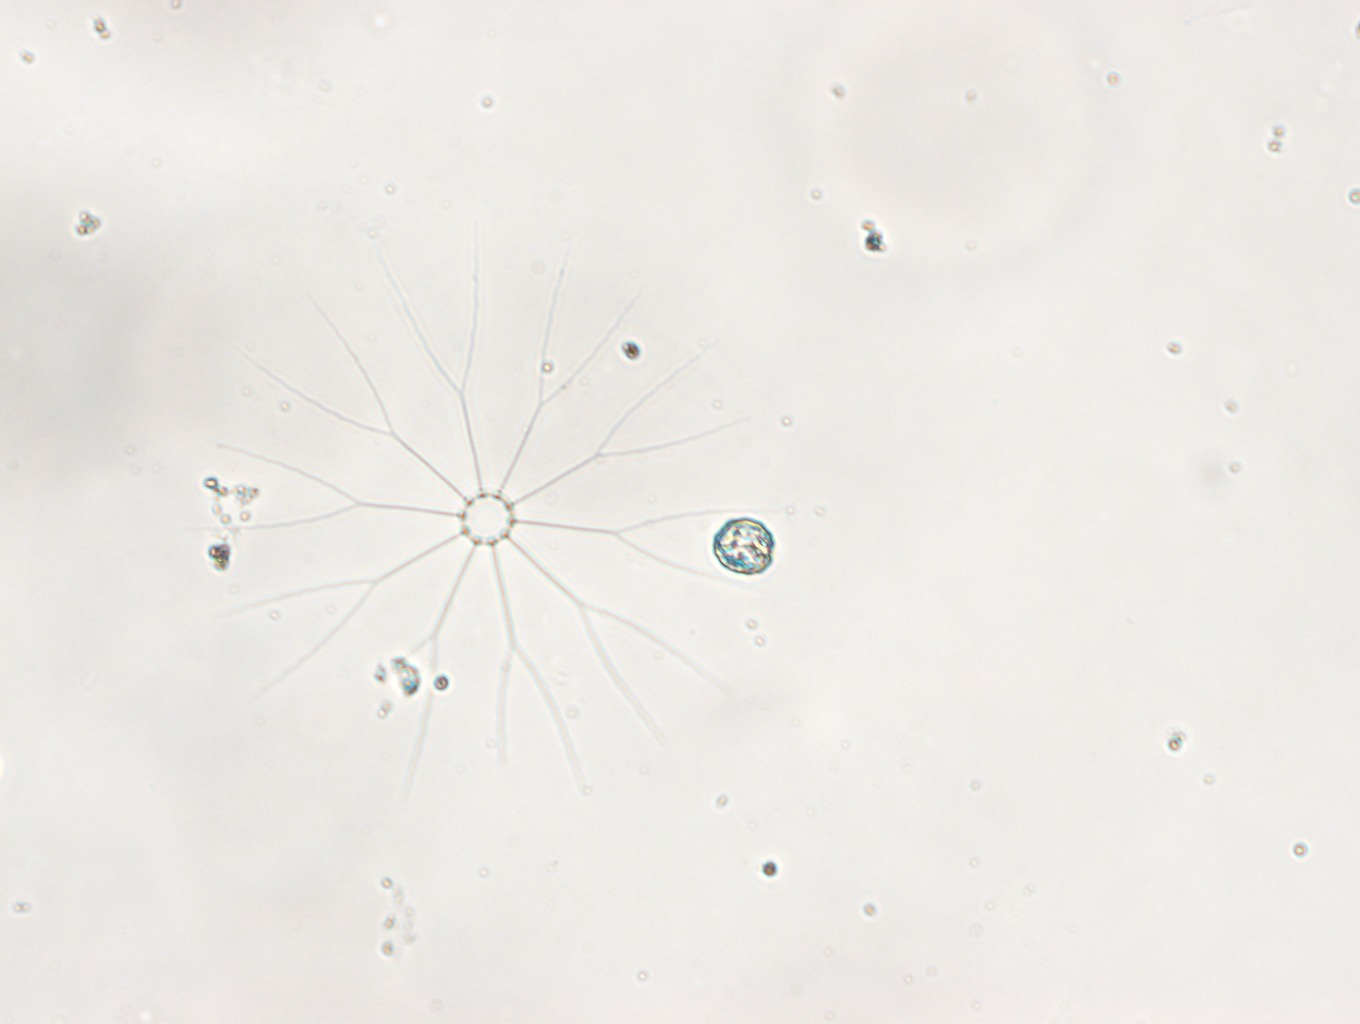bacteriastrum: (204, 238, 785, 813)
